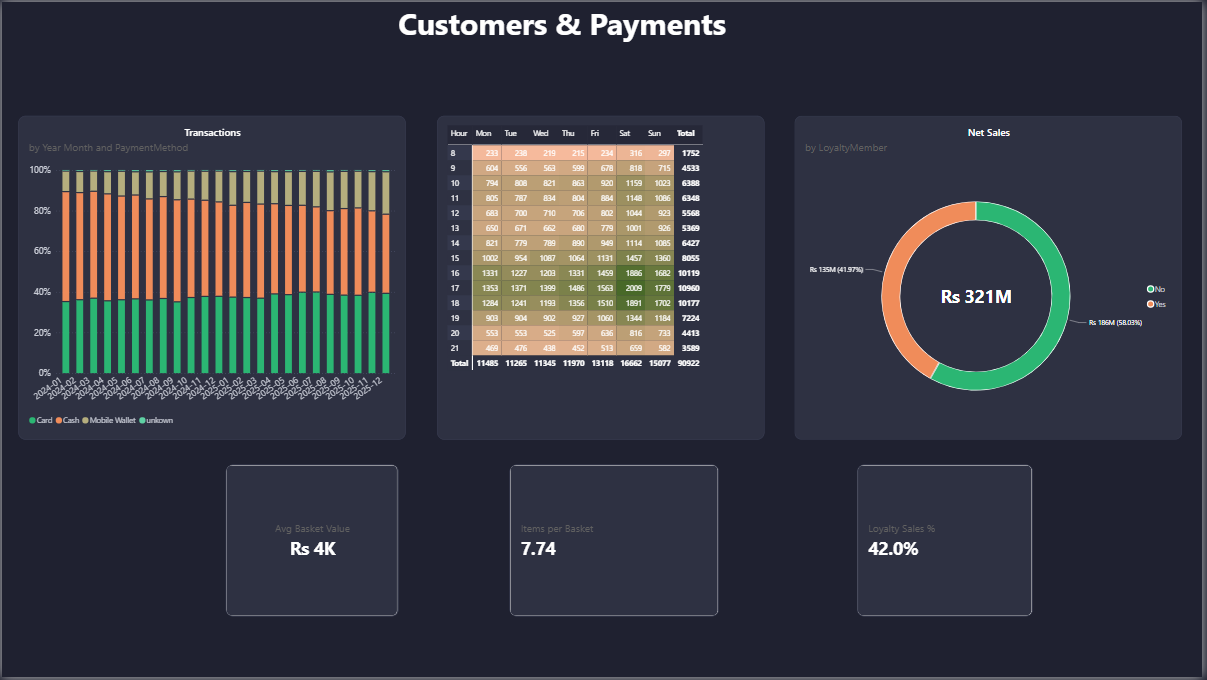

What the dashboard file says about the page in this screenshot:
{"tool":"powerbi","page":{"name":"Customers & Payments","canvas":[1920,1080],"ordinal":3},"visuals":[{"type":"textbox","box":[633.3,0,733.3,280],"z":0},{"type":"hundredPercentStackedColumnChart","fields":{"Category":["Date.Year Month"],"Series":["sales.PaymentMethod"],"Y":["_Measures.Transactions"]},"box":[26,182,620,518],"z":1000},{"type":"donutChart","fields":{"Category":["sales.LoyaltyMember"],"Y":["_Measures.Net Sales"]},"box":[1268,182,620,518],"z":2000},{"type":"cardVisual","fields":{"Data":["_Measures.Avg Basket Value"]},"box":[358,740,276.7,243.3],"z":3000},{"type":"cardVisual","fields":{"Data":["_Measures.Items per Basket"]},"box":[812,740,335,243.3],"z":4000},{"type":"cardVisual","fields":{"Data":["_Measures.Loyalty Sales %"]},"box":[1368,740,281.7,243.3],"z":5000},{"type":"pivotTable","fields":{"Columns":["Date.Weekday"],"Rows":["sales.Hour"],"Values":["_Measures.Transactions"]},"box":[696,182,524,518],"z":6000}]}

Visuals, with their boxes in screenshot pixels (x1, y1, x2, y2), scaled from the page's 1920x1080 canvas onto the 1207x680 screenshot:
textbox: l=398, t=0, r=859, b=176
hundredPercentStackedColumnChart - Date.Year Month x sales.PaymentMethod: l=16, t=115, r=406, b=441
donutChart - sales.LoyaltyMember x _Measures.Net Sales: l=797, t=115, r=1187, b=441
cardVisual - _Measures.Avg Basket Value: l=225, t=466, r=399, b=619
cardVisual - _Measures.Items per Basket: l=510, t=466, r=721, b=619
cardVisual - _Measures.Loyalty Sales %: l=860, t=466, r=1037, b=619
pivotTable - Date.Weekday x sales.Hour: l=438, t=115, r=767, b=441
